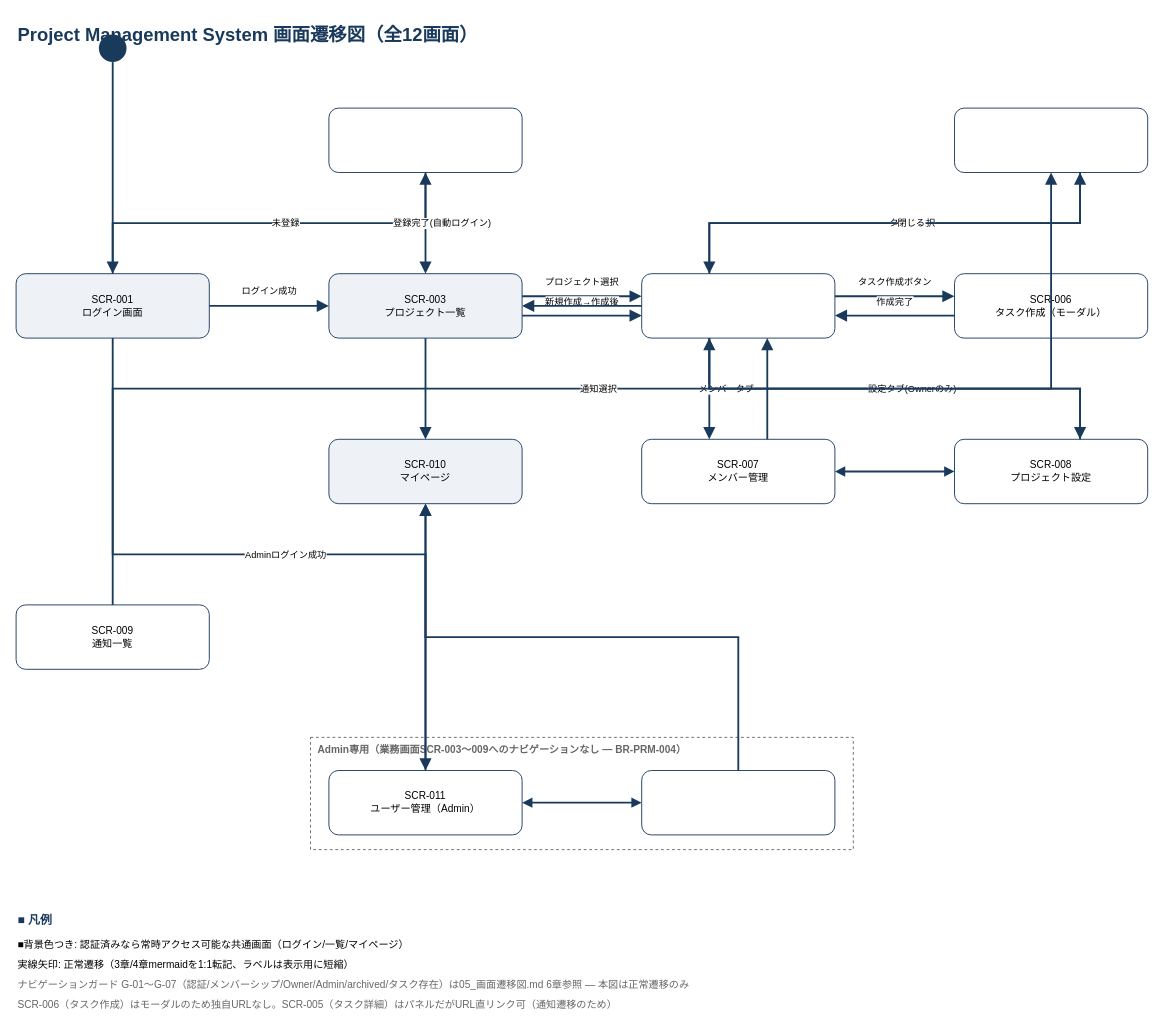
Some shapes in this 1164 by 1030 pixel diagram are drawn without their labels. Here are the shapes that lost their labels. From the top down, the centre of each, then its label:
At point (425, 139): "SCR-002 会員登録画面".
At point (1051, 139): "SCR-005 タスク詳細（URL直リンク可）".
At point (738, 305): "SCR-004 カンバンボード".
At point (738, 802): "SCR-012 プロジェクト管理（Admin）".
